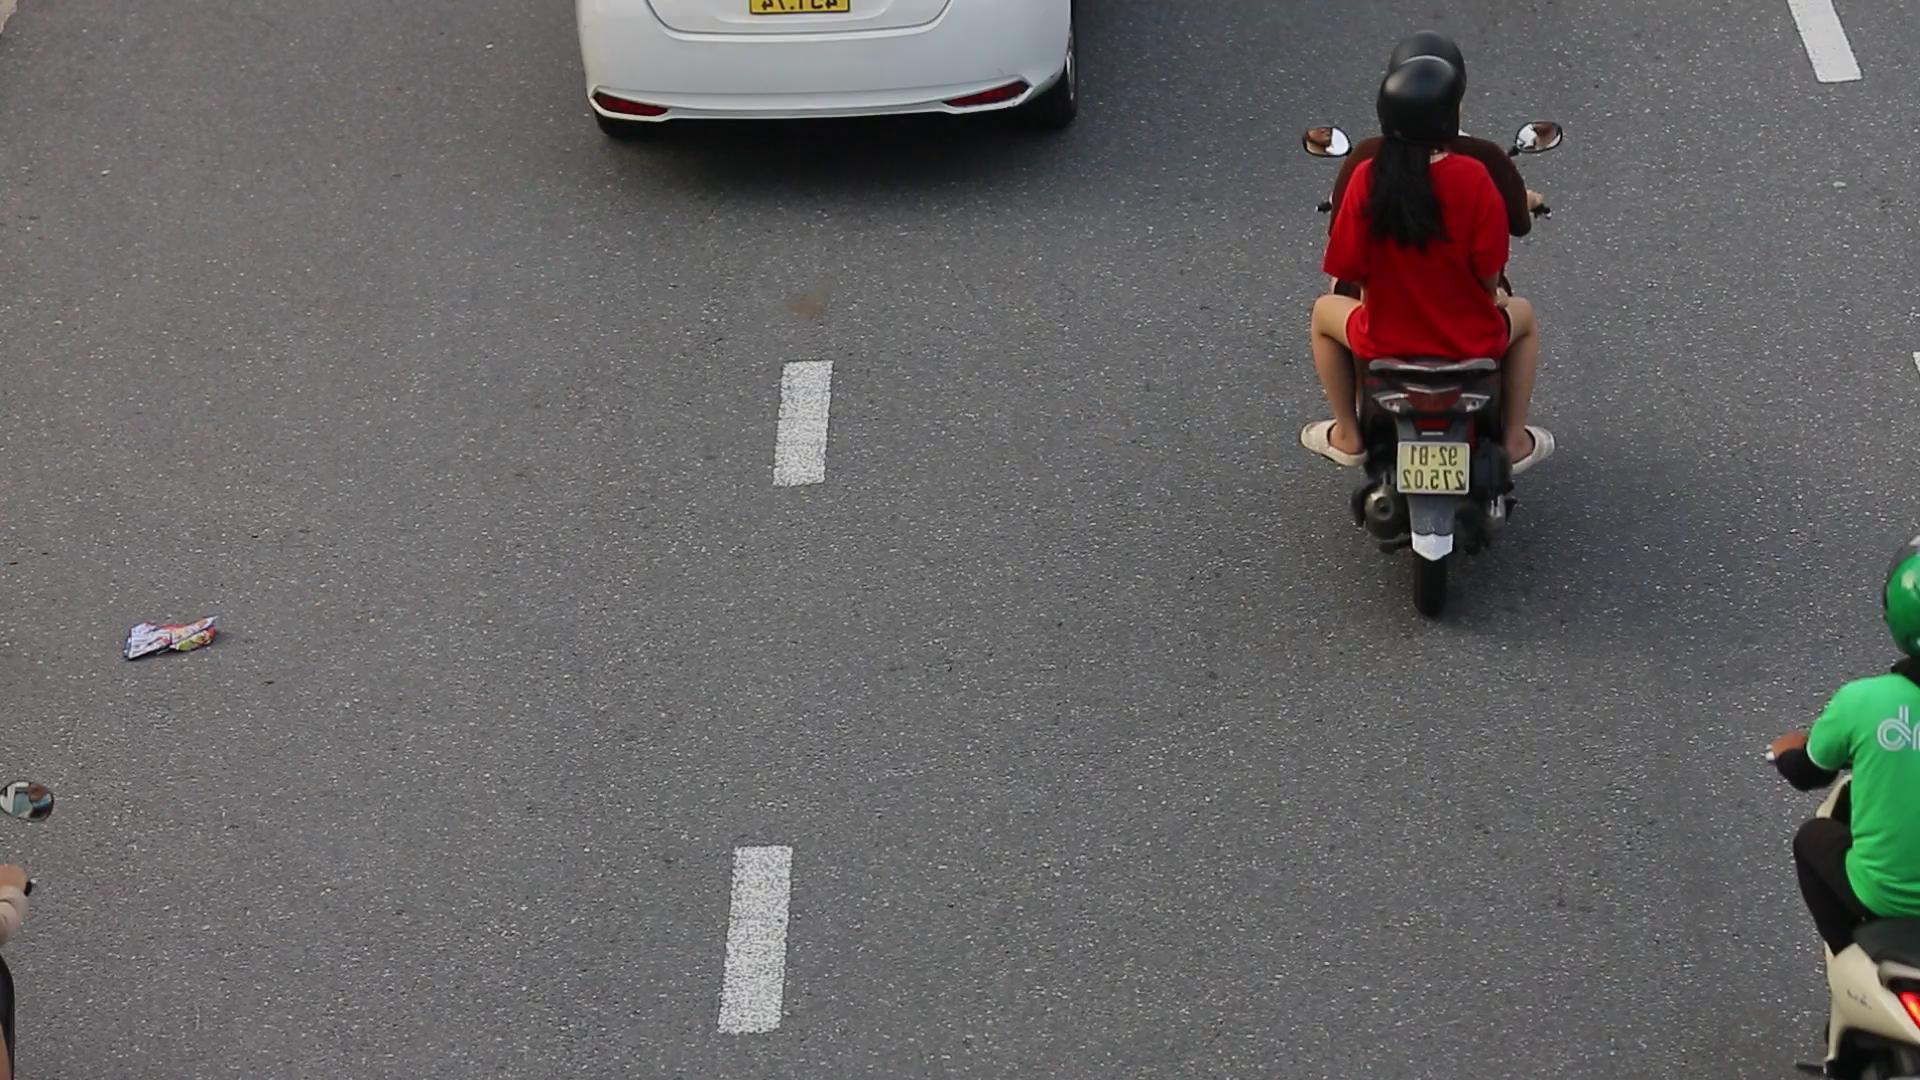motobike: (1273, 17, 1590, 632)
